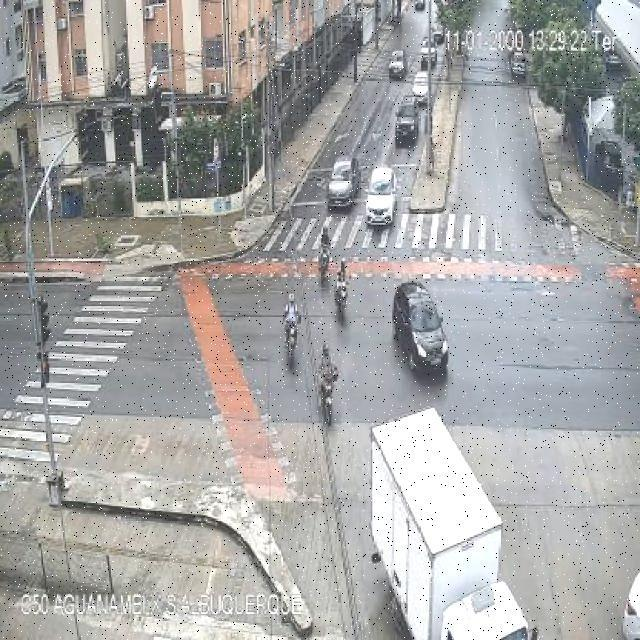Car: (394, 280, 451, 381), (324, 154, 360, 211), (365, 165, 396, 227), (393, 93, 420, 147), (388, 46, 406, 79), (411, 72, 431, 100)
Cycle: (317, 342, 338, 416), (282, 289, 302, 355), (334, 256, 351, 310), (319, 226, 332, 280)
Truck: (371, 407, 538, 640)
